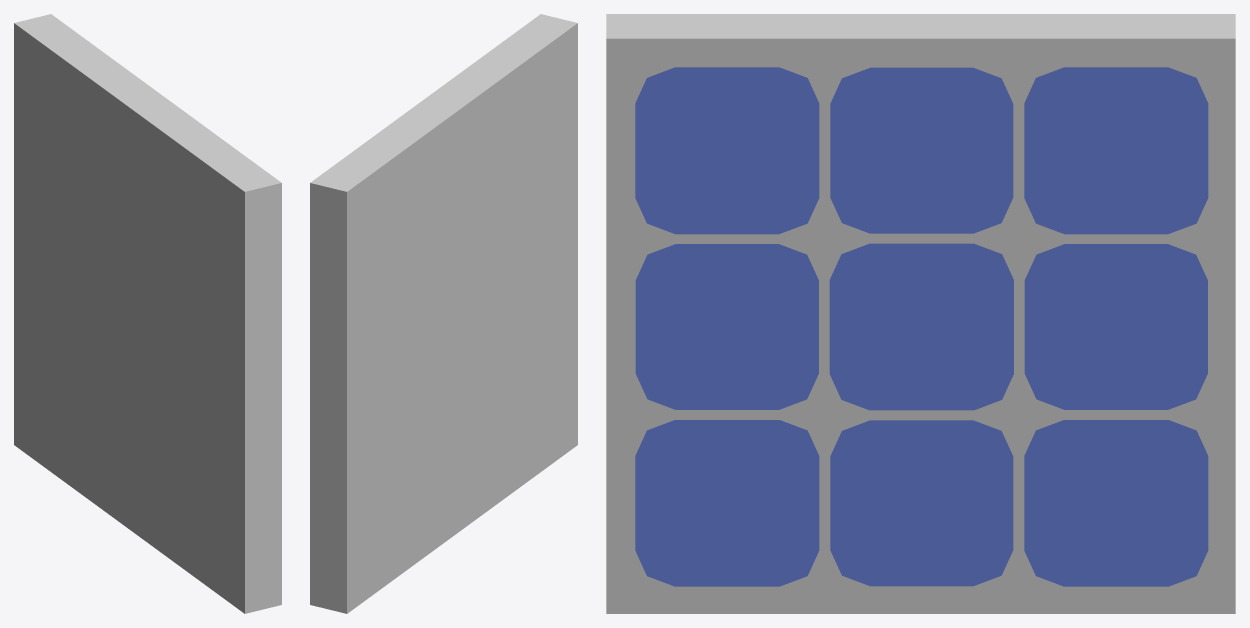
Rendered from solar_unit_3.fbx.
The picture shows the model from 3 angles, left to right: view 1: azimuth 30°, elevation 25°; view 2: azimuth 150°, elevation 25°; view 3: azimuth 270°, elevation 25°; orthographic projection. The views are drawn at different scales.
Visible parts, largest first — view 1: solar_panel.009; view 2: solar_panel.009; view 3: solar_panel.009.
Boxes of the visible parts, x1=… form: solar_panel.009: x1=14, y1=14, x2=281, y2=613; solar_panel.009: x1=310, y1=14, x2=577, y2=613; solar_panel.009: x1=606, y1=14, x2=1235, y2=613.
Bounding box in the file's own units: 30.33 × 326 × 323.
